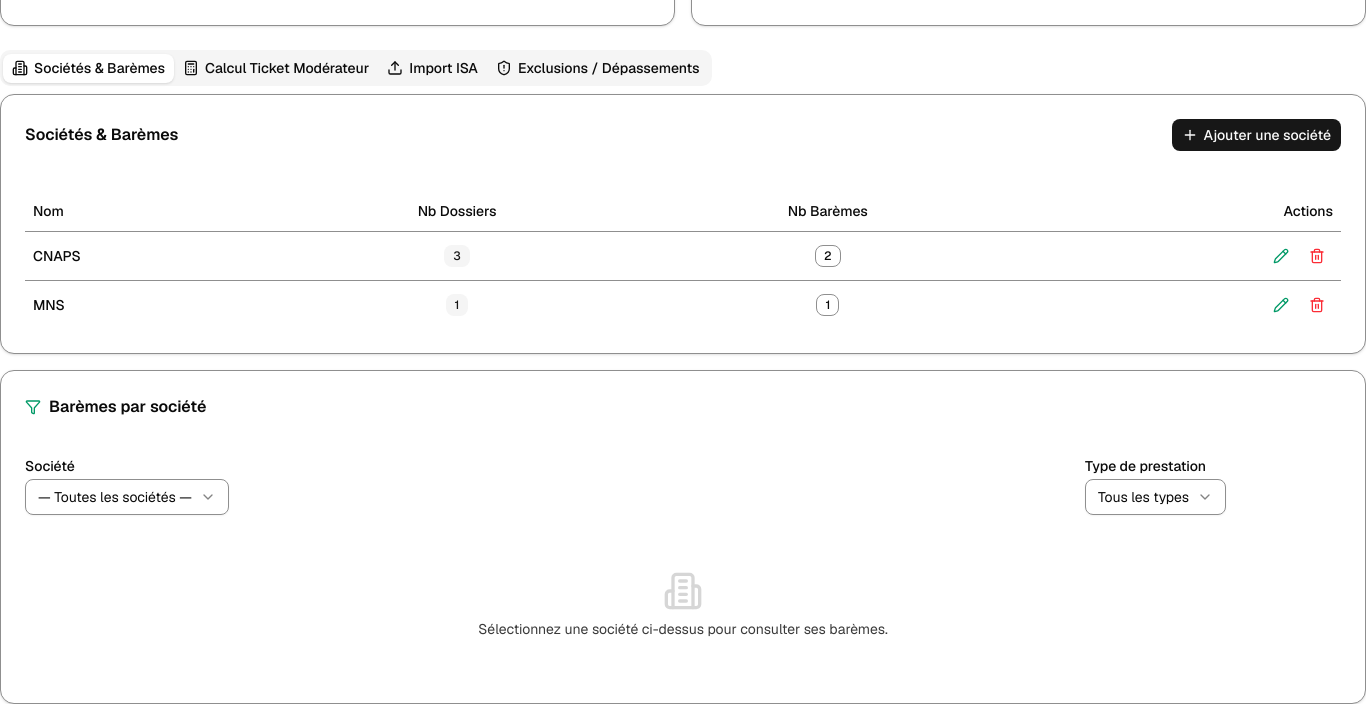
Test: TechniqueView — caractérisation › onglet Sociétés : liste les sociétés et permet la consultation des barèmes
The image size is (1366, 704).
(page scrolled)
Check: the text "CNAPS" is shown, box [25, 231, 273, 280]
Check: the text "MNS" is shown, box [25, 280, 273, 328]
Note: Sélectionner une société dans le filtre "Barèmes par société"
Click the dropdown labelled "société" at (127, 496), box [25, 478, 229, 514]
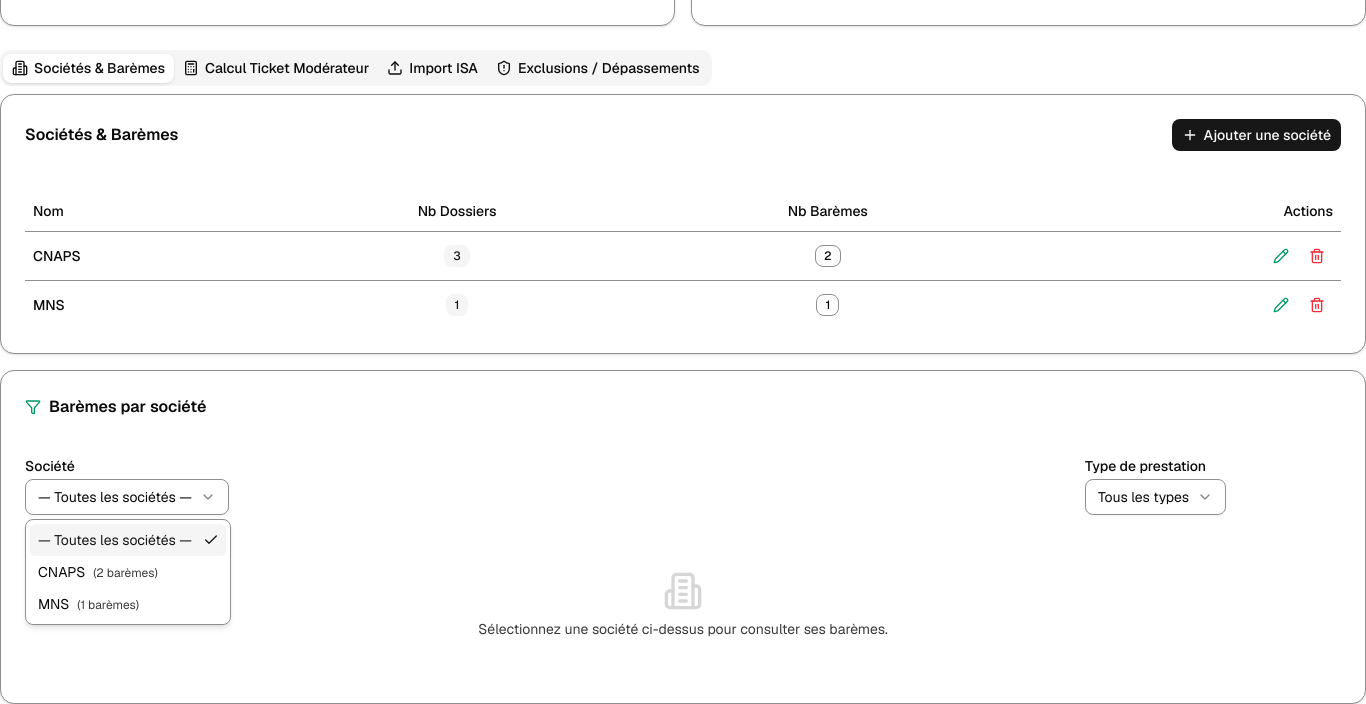
Click the option "CNAPS(2 barèmes)" at (98, 572), box [38, 563, 158, 581]
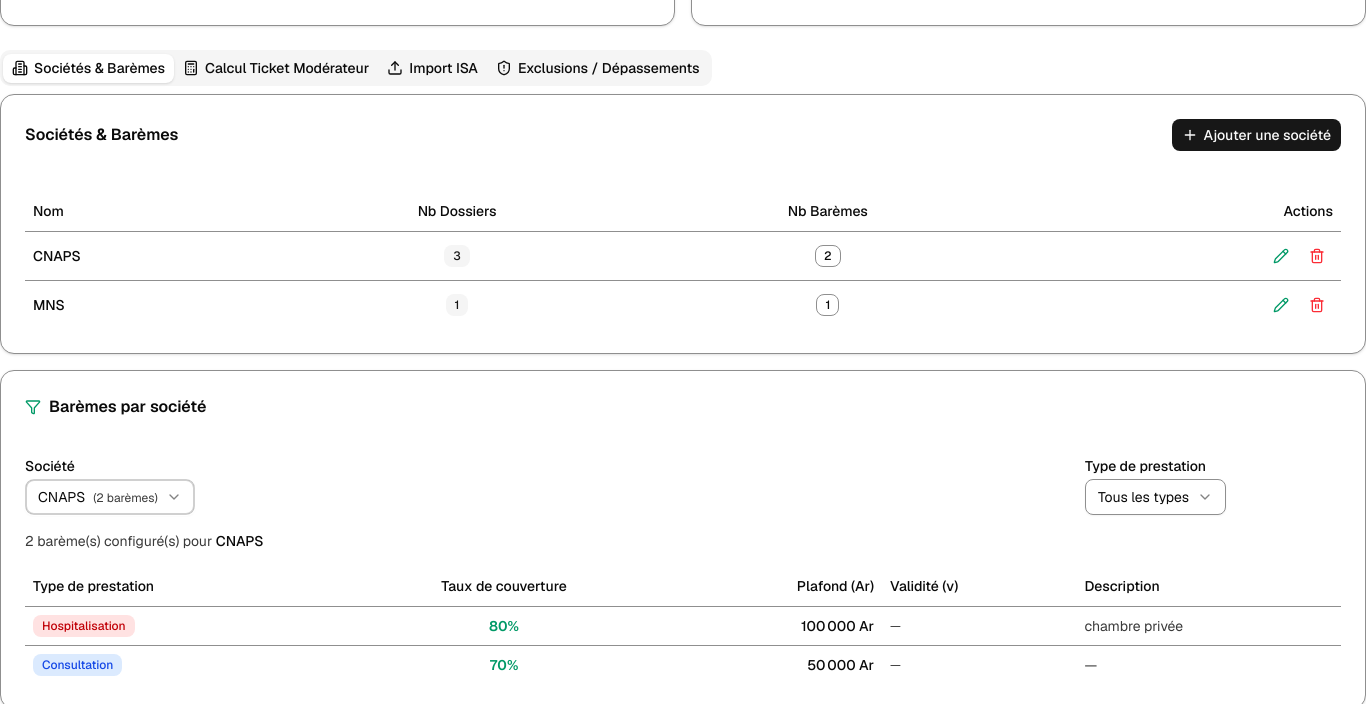
Check: the text "2 barème(s) configuré(s) pour CNAPS" is shown, box [25, 532, 264, 550]
Check: the text "Hospitalisation" is shown, box [33, 615, 135, 637]
Check: the text "80%" is shown, box [489, 617, 519, 635]
